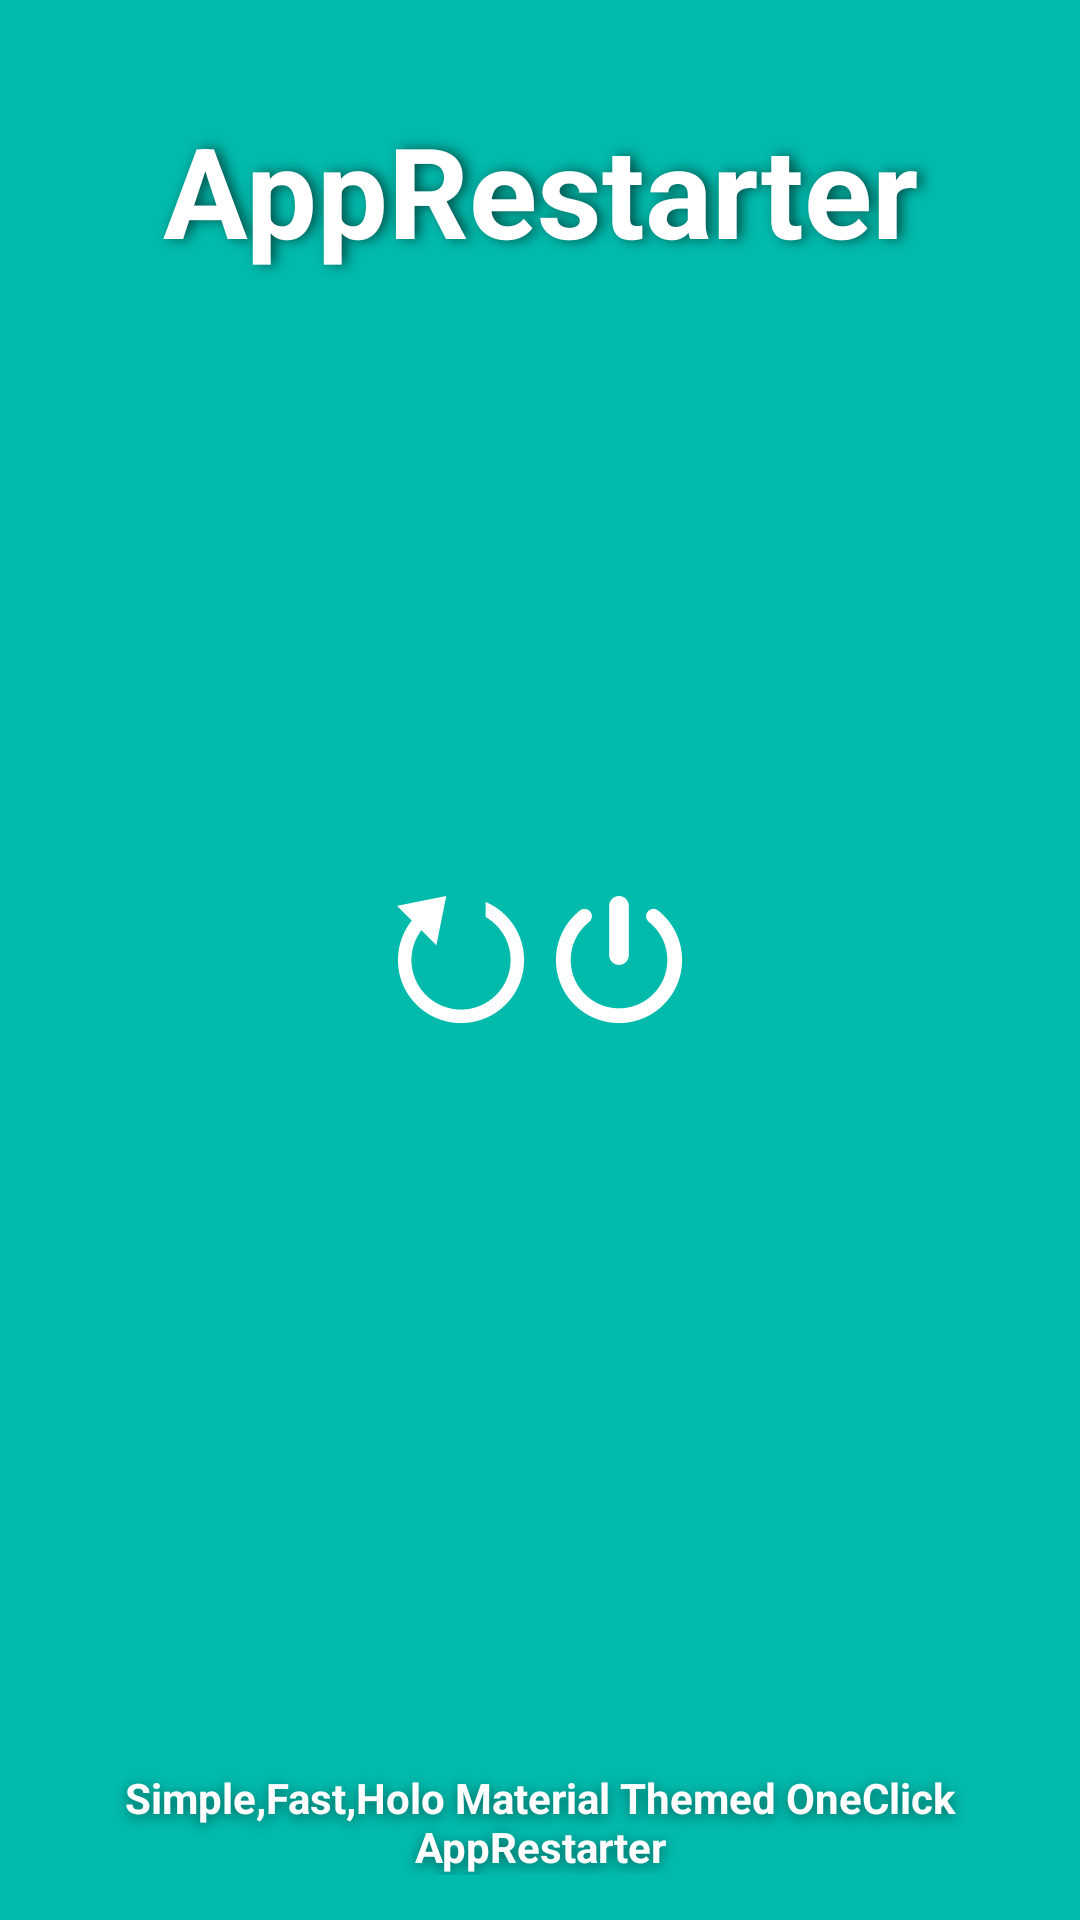

Named icons in this screenshot (1080×1920) and their centers, (x=x, y=y):
restart: (x=460, y=959)
shutdown: (x=619, y=959)
